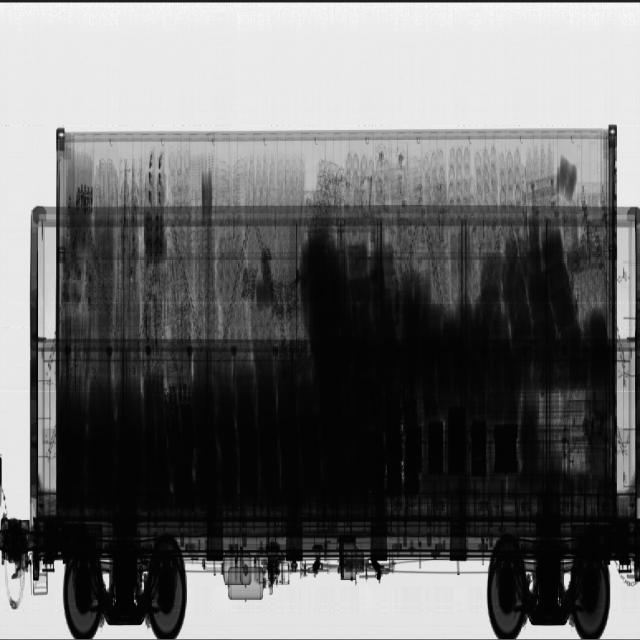fabrics: (61, 158, 634, 490)
